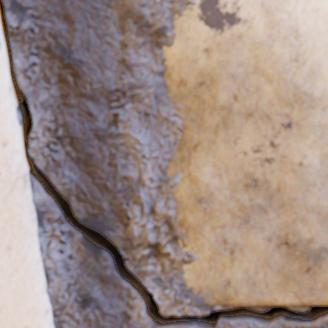brick: (163, 0, 327, 305), (0, 7, 54, 327), (178, 239, 182, 247)
crack: (0, 0, 327, 326)
